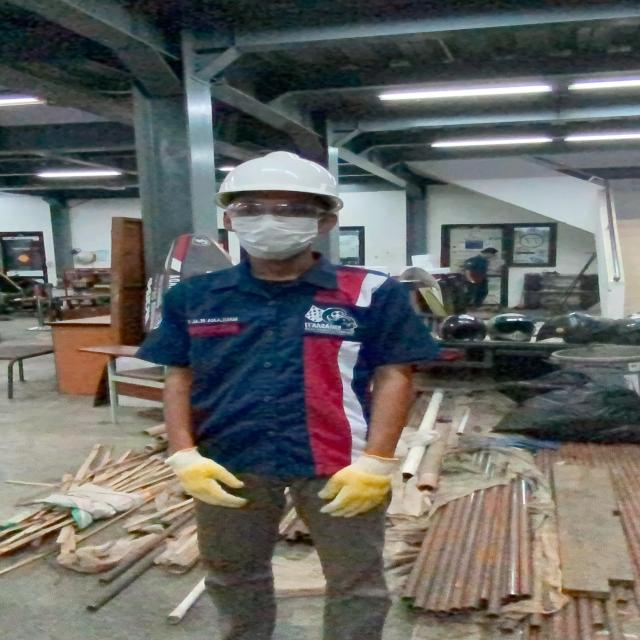face_mask: (220, 197, 332, 260)
glasses: (218, 199, 330, 222)
hand_glove: (164, 451, 258, 510), (310, 463, 401, 522)
head_helmet: (211, 150, 350, 202)
person: (132, 146, 441, 640)
